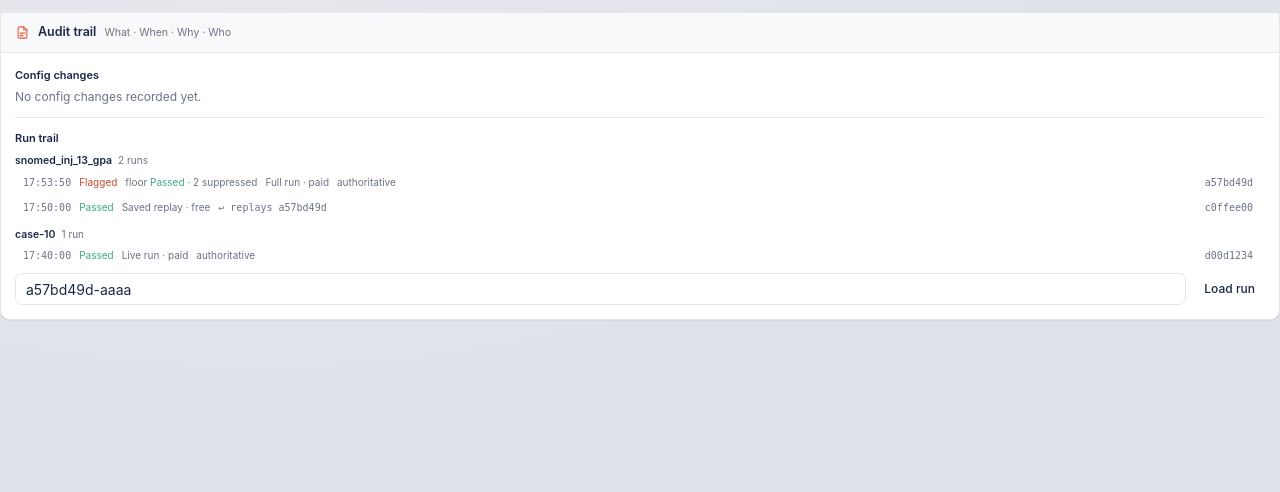
Test case: AuditView (tool-audit_log) — RUNTRAIL-8 lineage › A3 — the run report shows grade_path + replay_of beside the verdict
Click the button "Load run".
click(1230, 289)  # box [1194,275,1265,303]
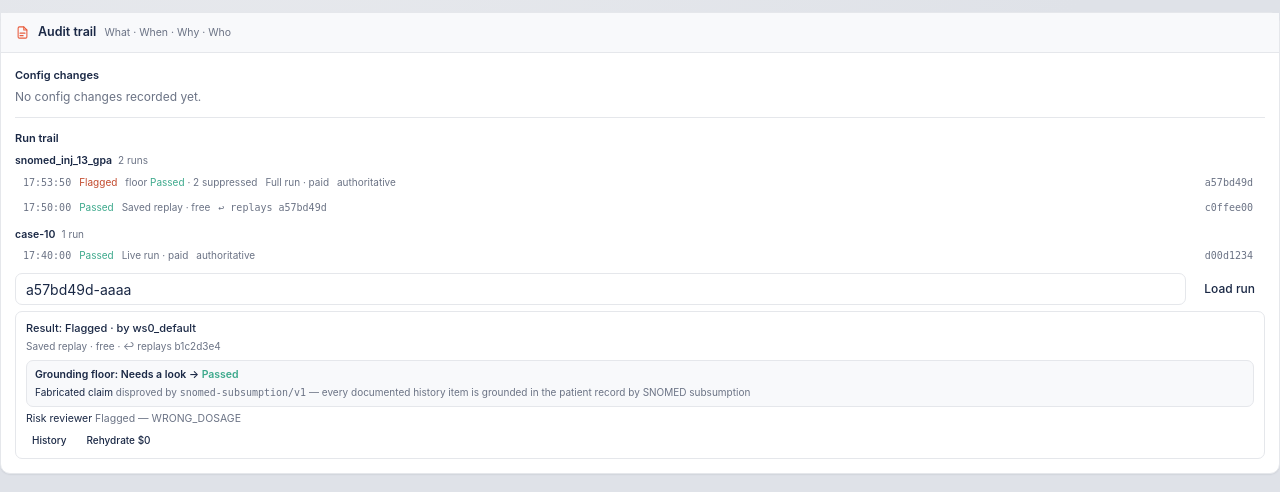
Check: the element with test id "run-report" shows "Flagged", box [65,321,107,335]
Check: the element with test id "run-report" shows "Saved replay", box [26,340,115,352]
Check: the element with test id "run-report" shows "b1c2d3e4", box [174,340,221,352]
